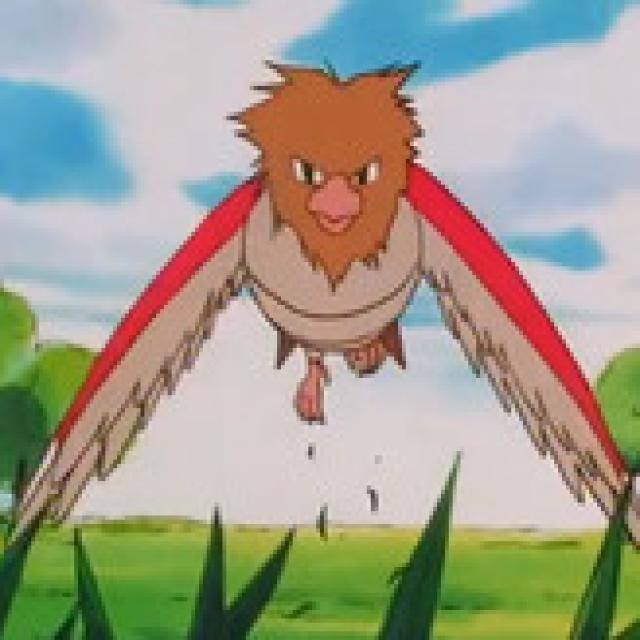Spearow: (151, 62, 524, 429)
